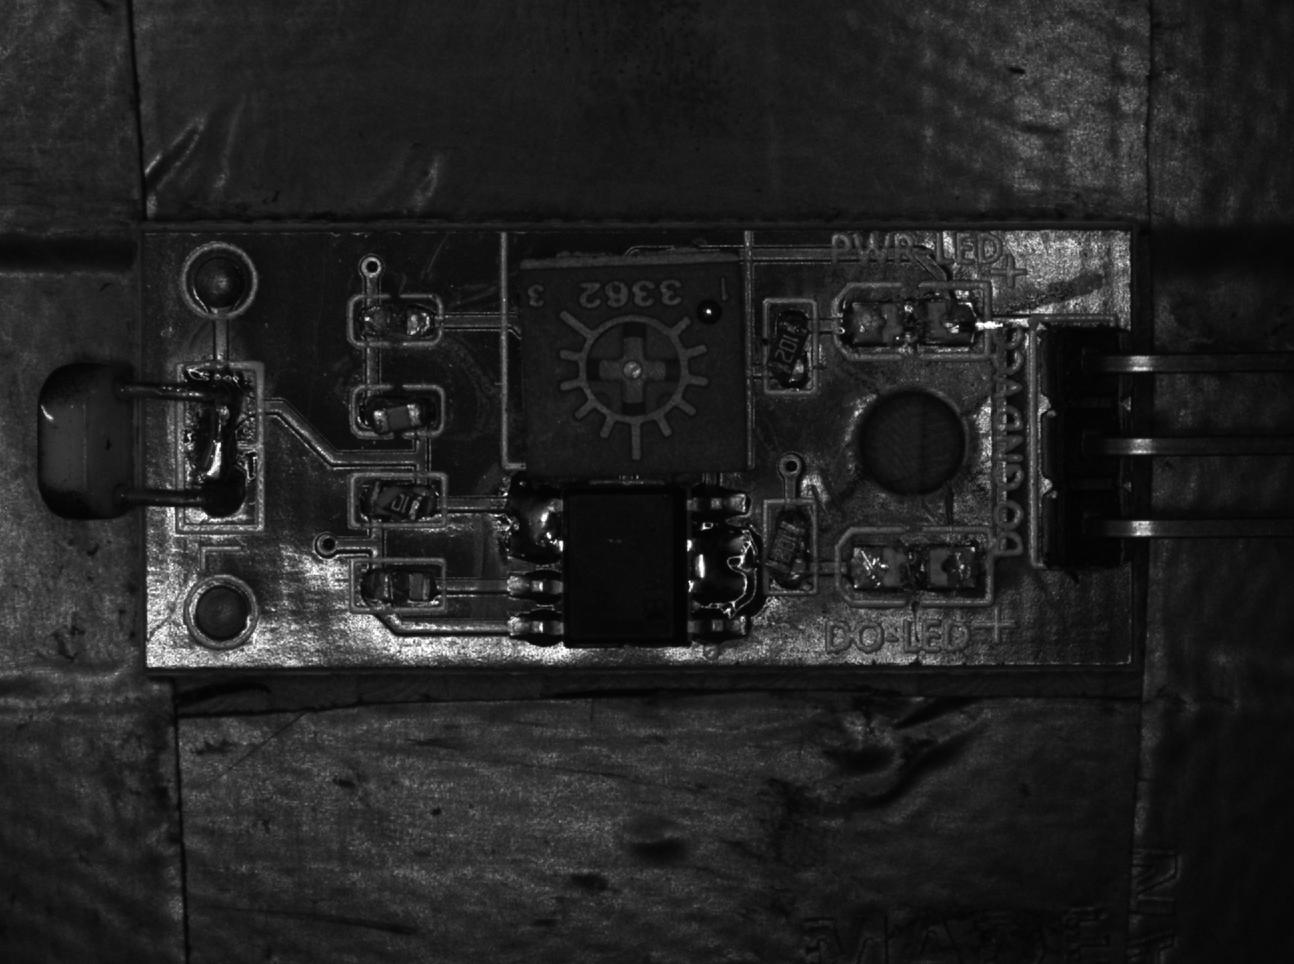bridge: (178, 365, 261, 532), (685, 525, 753, 610), (501, 486, 564, 564)
lifted: (352, 384, 447, 440), (345, 475, 446, 527), (764, 500, 812, 597), (763, 302, 812, 394)
miss: (350, 558, 443, 611), (349, 295, 440, 345)
